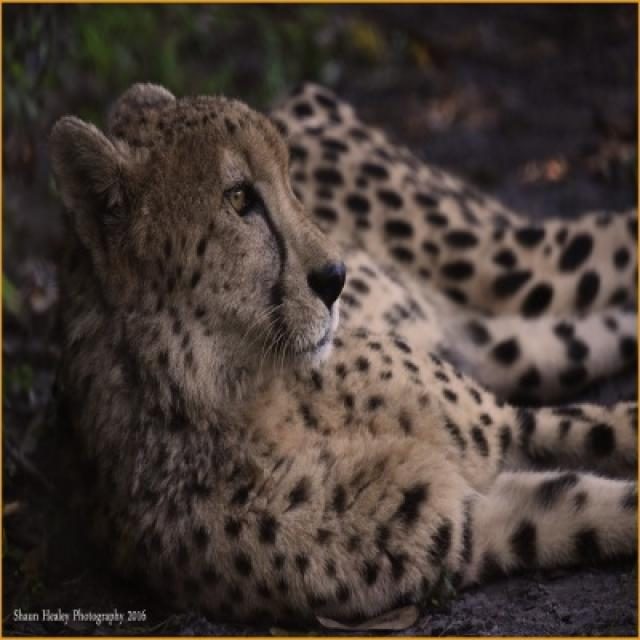Cheetah: (32, 83, 638, 632)
